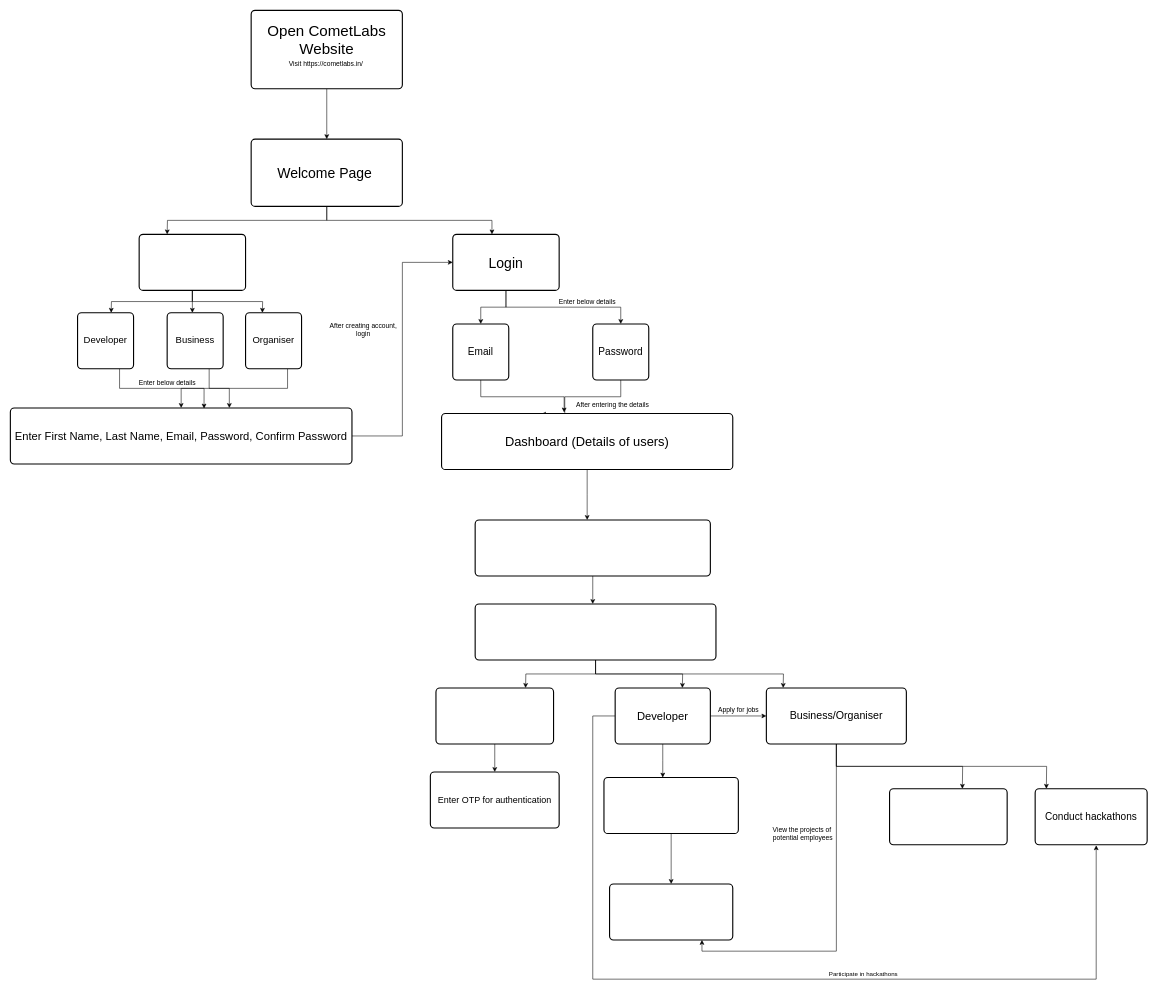
Image size: 1157x993. Some labels were removed from this diagram. Each missing label, with the centre of its shape:
Choose Playground (Choose any language to create project): point 671,805
Conduct Proctored interview: point 948,816
Create New Project: point 671,911
Edit Profile/ Fill Profile: point 592,547
Edit Resume: point 494,715
Fill Details, skills,Education,Experience,Project: point 595,631
Sign up: point 192,262
